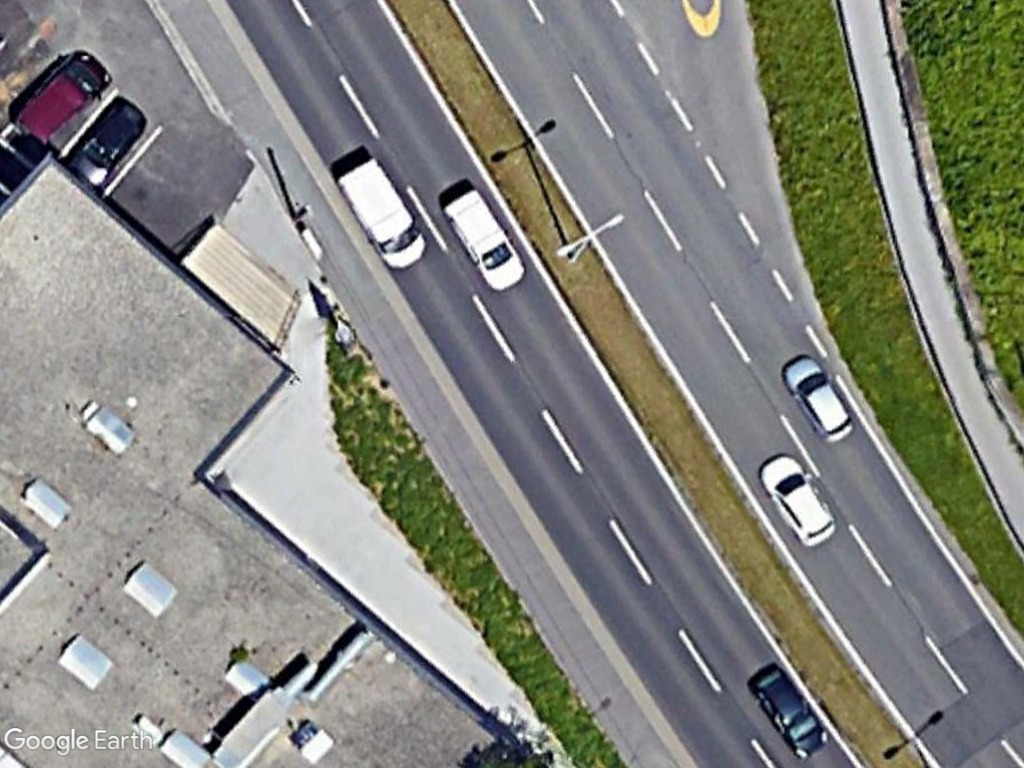car: (739, 659, 837, 765), (755, 446, 847, 556), (777, 353, 860, 448), (68, 93, 148, 189)
van: (335, 151, 432, 274), (13, 40, 118, 150), (438, 181, 525, 290)
